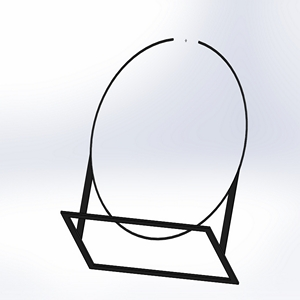circle: (60, 34, 249, 285)
